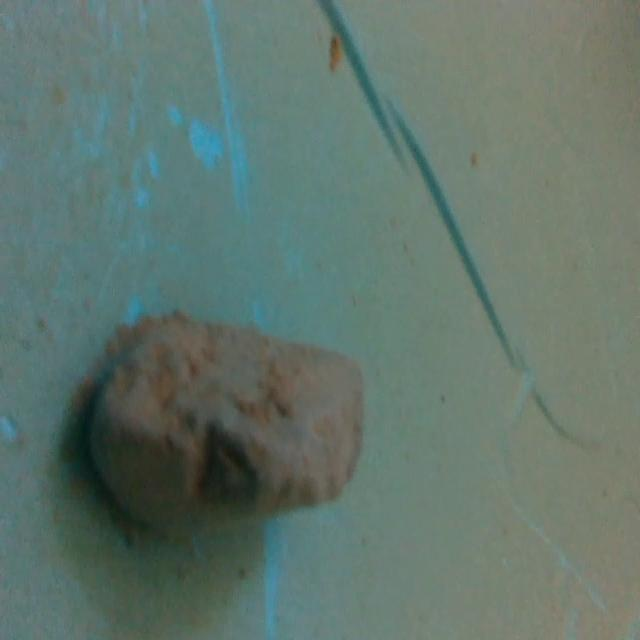rock: (84, 313, 373, 549)
